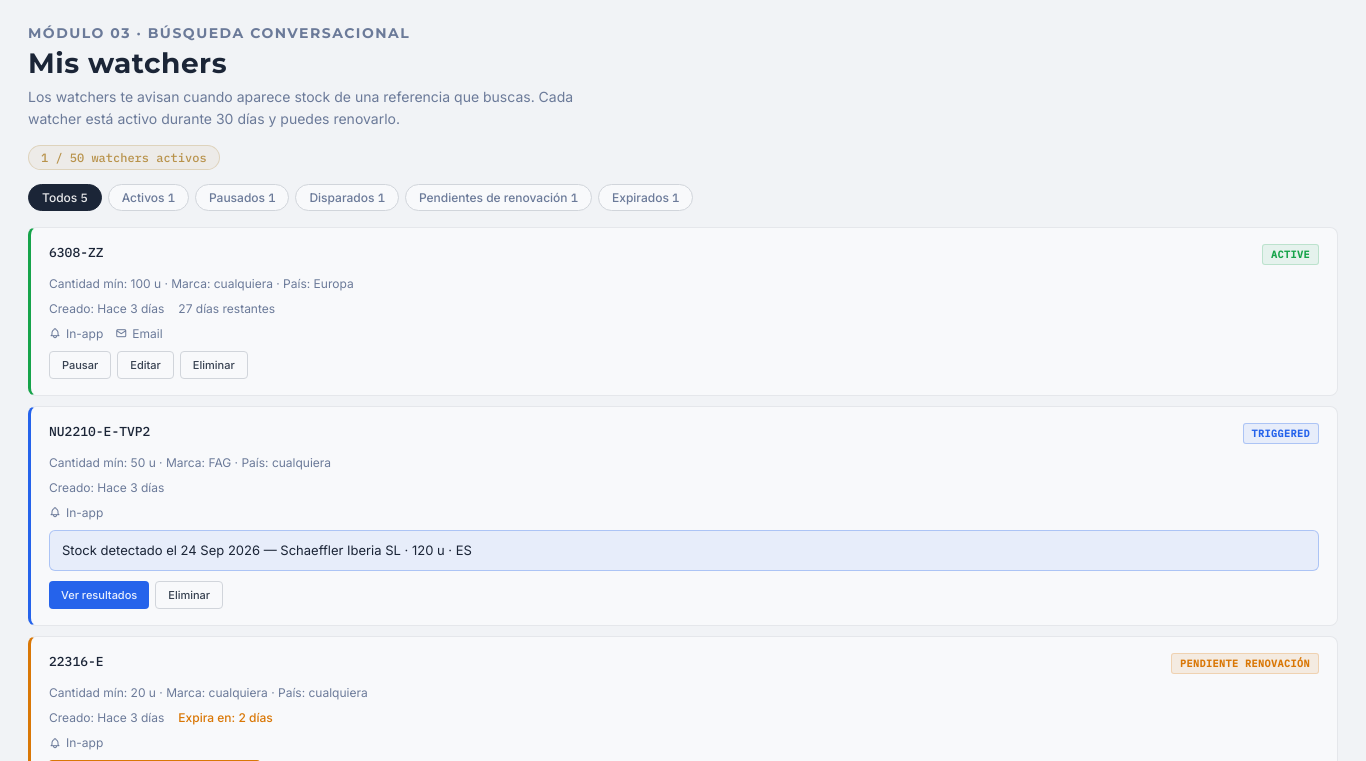
it: Watchers · eliminar (spec §6) › Eliminar abre un diálogo con la pregunta literal y NO borra todavía
The image size is (1366, 761).
Expected: the element named "Watcher 6308-ZZ" is shown, [28,227,1338,396]
Step 1. Click the button with aria-label "Eliminar — 6308-ZZ" → (214, 365), box [180,351,248,379]
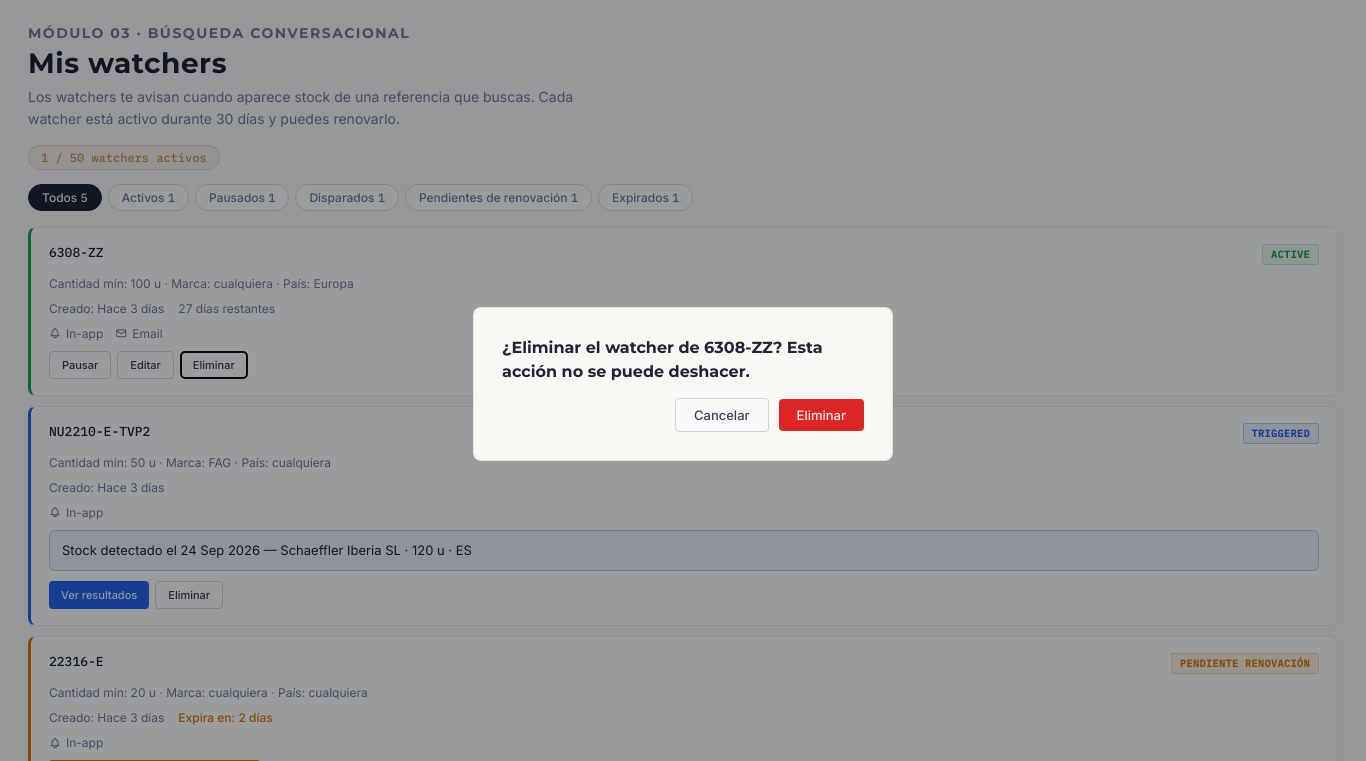
Now the button "Eliminar" is shown, box [778,399,864,431]
Now the button "Cancelar" is shown, box [675,398,769,432]
